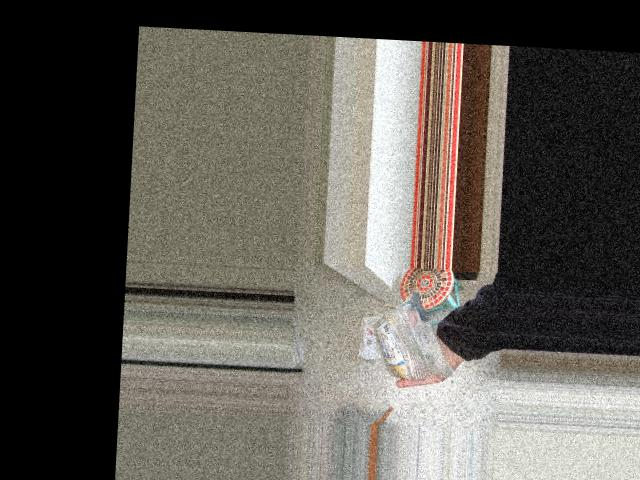cheese: (349, 319, 442, 363)
